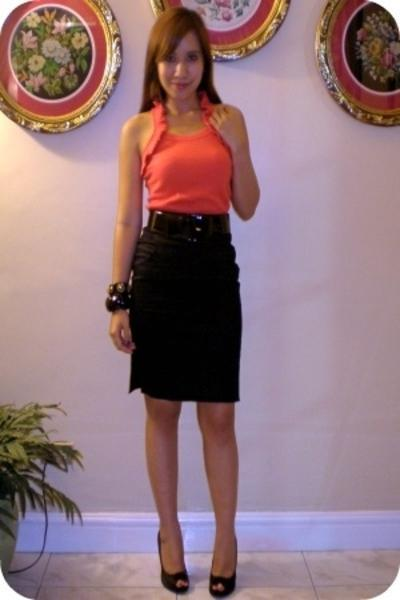shirt: (138, 88, 233, 218)
shoe: (161, 566, 236, 598)
skirt: (126, 228, 241, 402)
